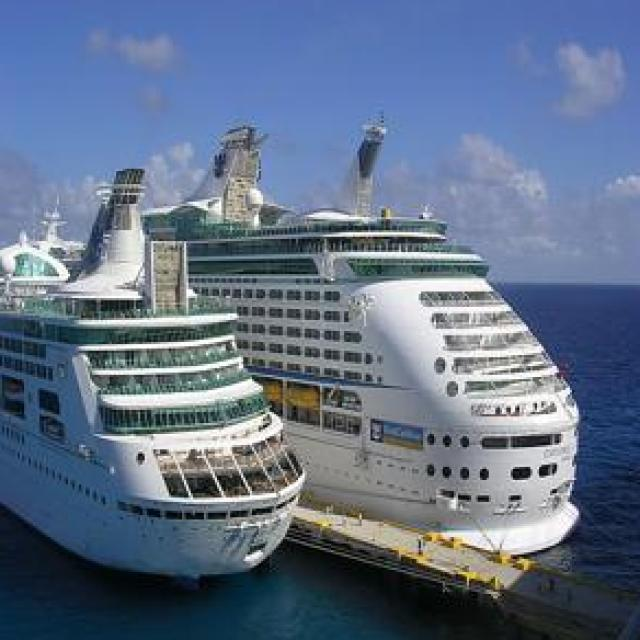passenger ship: (135, 126, 589, 555), (0, 220, 304, 580)
